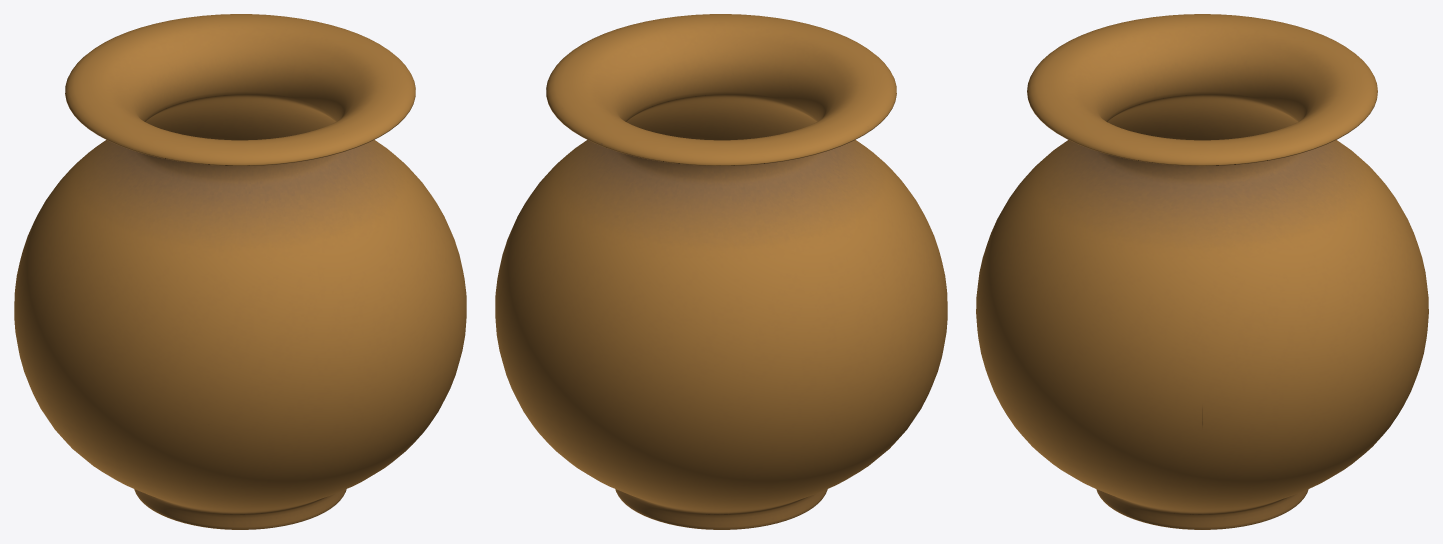
The model's file is kalash.glb.
The picture shows the model from 3 angles, left to right: view 1: azimuth 30°, elevation 25°; view 2: azimuth 150°, elevation 25°; view 3: azimuth 270°, elevation 25°; orthographic projection.
Parts seen in each view (by area): view 1: Kalash; view 2: Kalash; view 3: Kalash.
Part boxes in pixels (<box>): Kalash: <box>14,14,466,529</box>; Kalash: <box>495,14,947,529</box>; Kalash: <box>976,14,1428,529</box>.
Bounding box in the file's own units: 0.1027 × 0.1009 × 0.1027.
Materials: 1 (1 with a texture image).
